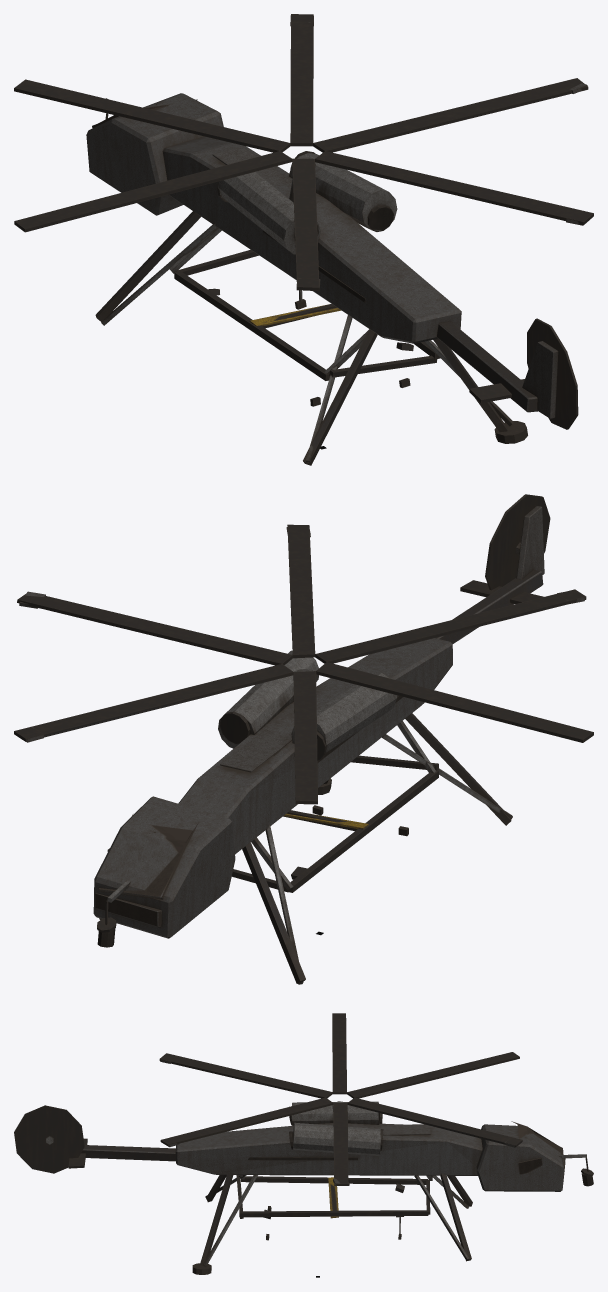
Rendered from chs_charon_wreck.fbx.
3 views of the same model, one above another, from view 1: azimuth 30°, elevation 25°; view 2: azimuth 150°, elevation 25°; view 3: azimuth 270°, elevation 25° (orthographic). The views are drawn at different scales.
Parts seen in each view (by area): view 1: base_bar, rotor_bar, tailRotor_bar; view 2: base_bar, rotor_bar, tailRotor_bar; view 3: base_bar, rotor_bar, tailRotor_bar.
Boxes of the visible parts, x1,y1,x2,y2 form: base_bar: (86, 93, 558, 465); rotor_bar: (14, 14, 593, 291); tailRotor_bar: (527, 318, 578, 429); base_bar: (93, 506, 544, 984); rotor_bar: (14, 524, 593, 804); tailRotor_bar: (485, 494, 550, 590); base_bar: (68, 1101, 593, 1274); rotor_bar: (159, 1013, 522, 1185); tailRotor_bar: (14, 1105, 84, 1173).
Bounding box in the file's own units: 2042 × 984 × 2891.
Materials: 2 (2 with a texture image).
